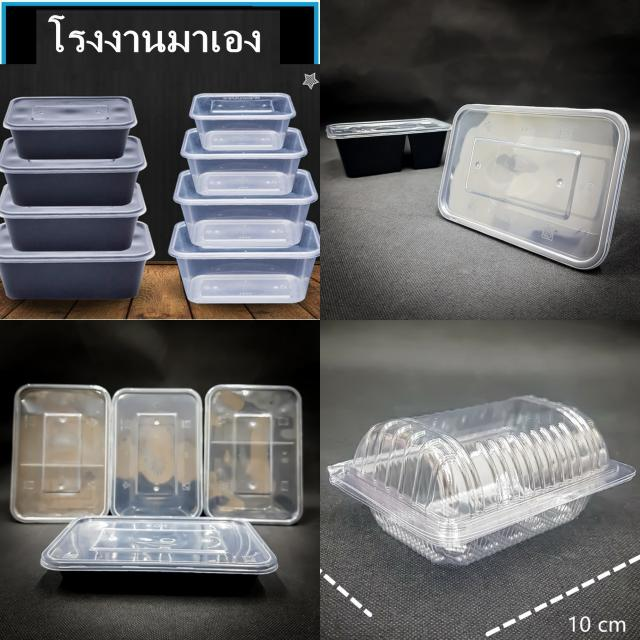Single-Use-Plastic: (329, 396, 635, 565), (439, 105, 629, 268), (10, 384, 111, 522), (41, 516, 278, 574), (205, 385, 302, 524), (169, 221, 320, 304), (0, 221, 155, 300), (111, 388, 202, 516), (174, 169, 318, 249), (0, 136, 146, 206), (0, 184, 146, 251), (180, 128, 308, 196), (4, 96, 138, 158), (326, 118, 451, 178), (190, 92, 296, 151)
